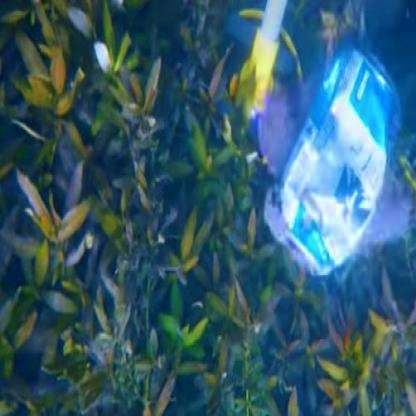can: (266, 23, 407, 282)
